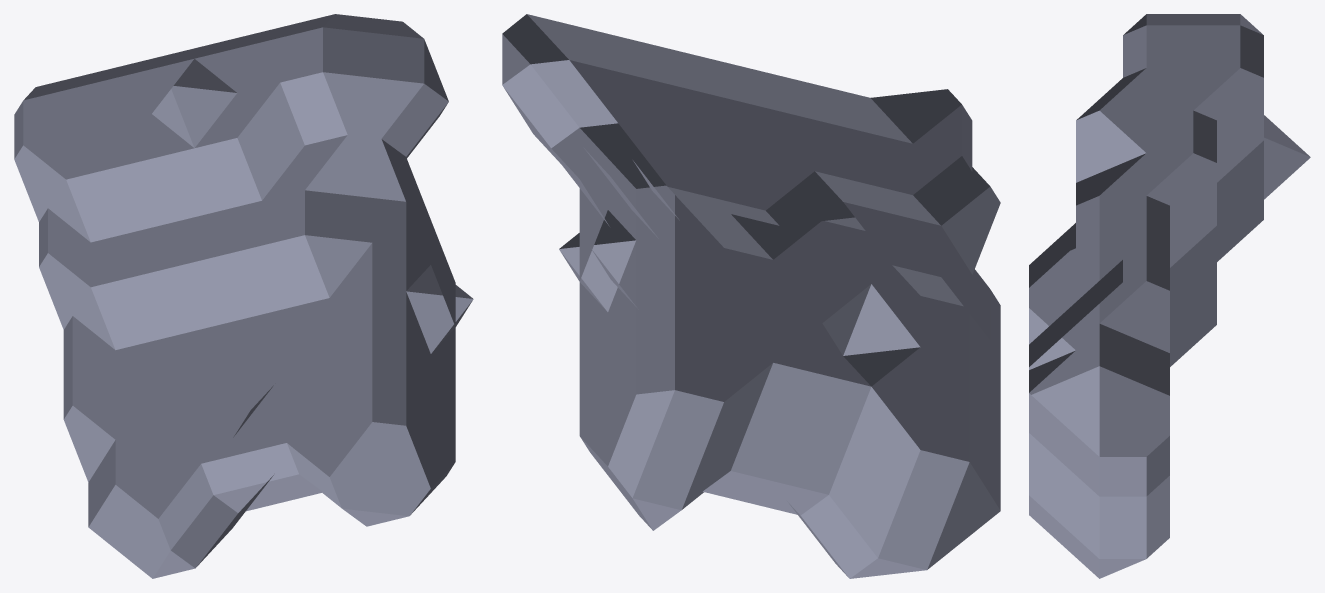
Rendered from region_0114_PMg__gigantocellular_part_of_magnocellular_preoptic_nucleus_.glb.
The picture shows the model from 3 angles, left to right: view 1: azimuth 30°, elevation 25°; view 2: azimuth 150°, elevation 25°; view 3: azimuth 270°, elevation 25°; orthographic projection. The views are drawn at different scales.
Visible parts, largest first — view 1: world; view 2: world; view 3: world.
Part boxes in pixels (box(x1,y1,x2,y2)): world: box(14, 14, 473, 578); world: box(502, 14, 1000, 578); world: box(1029, 14, 1310, 578).
Bounding box in the file's own units: 0.072 × 0.08 × 0.048.
